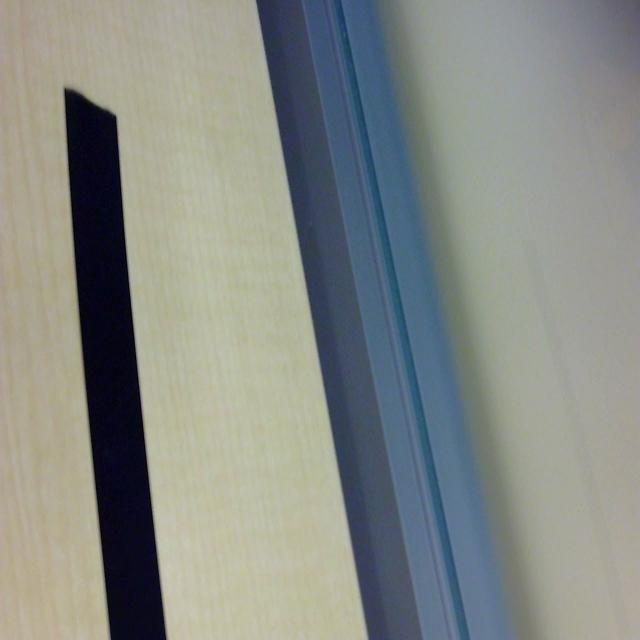tape: (44, 74, 180, 640)
